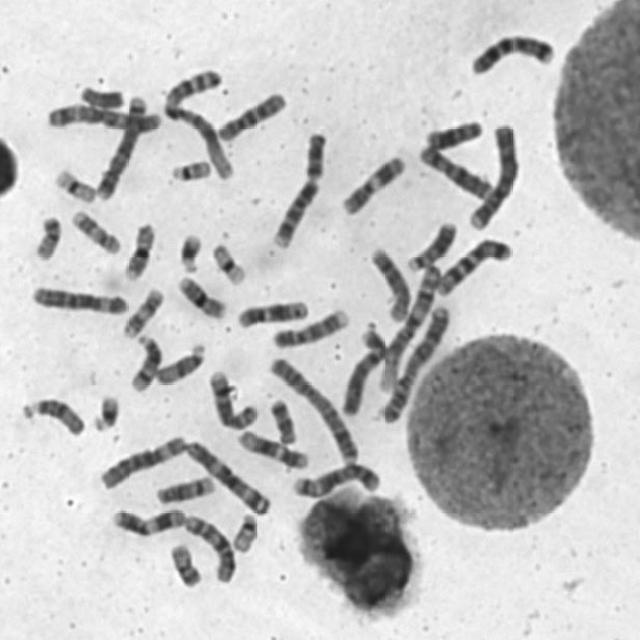A1: (160, 66, 238, 182), (377, 261, 443, 395)
A2: (266, 355, 360, 466), (378, 304, 453, 427)
A3: (184, 438, 272, 518), (44, 104, 164, 139)
B4: (467, 121, 522, 233), (338, 327, 387, 418)
B5: (94, 92, 148, 202), (290, 462, 382, 502)
C10: (182, 512, 238, 585), (215, 90, 288, 144)
C11: (340, 154, 412, 218), (106, 506, 184, 538)
C12: (235, 428, 311, 472), (235, 298, 310, 330)
C6: (97, 434, 188, 492), (26, 284, 131, 318)
C7: (435, 236, 514, 298), (468, 28, 558, 80)
C8: (369, 244, 413, 325), (206, 368, 261, 432)
C9: (270, 309, 354, 351), (272, 182, 322, 250)
D13: (405, 220, 459, 276), (422, 116, 485, 152)
D14: (127, 331, 164, 395), (155, 474, 215, 505)
D15: (20, 394, 88, 440), (155, 342, 208, 386)
E16: (174, 272, 230, 322), (122, 220, 157, 285)
E17: (120, 284, 168, 340), (70, 207, 123, 257)
E18: (267, 395, 300, 447), (301, 130, 331, 181)
F19: (210, 240, 247, 288), (52, 168, 99, 205)
F20: (167, 542, 205, 590), (31, 212, 65, 265)
G21: (92, 393, 122, 434), (177, 231, 204, 273)
G22: (232, 509, 261, 558), (170, 156, 212, 185)
X: (416, 146, 494, 203)
Y: (77, 82, 128, 114)
